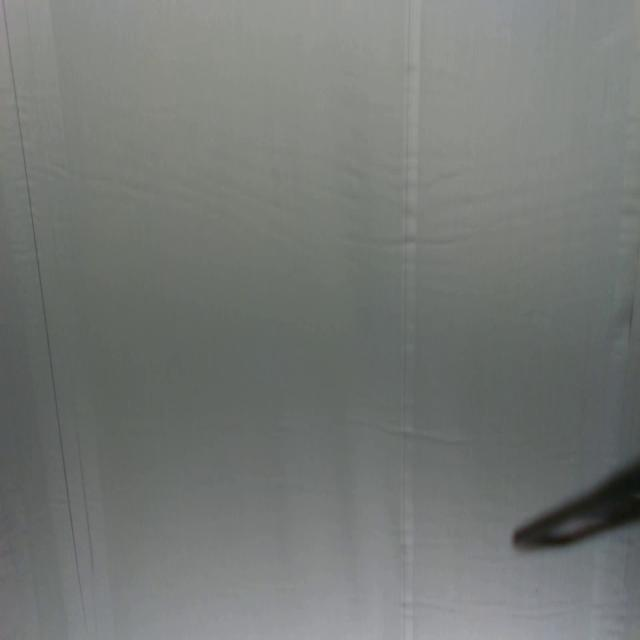crease: (1, 0, 112, 640), (400, 0, 424, 639)
